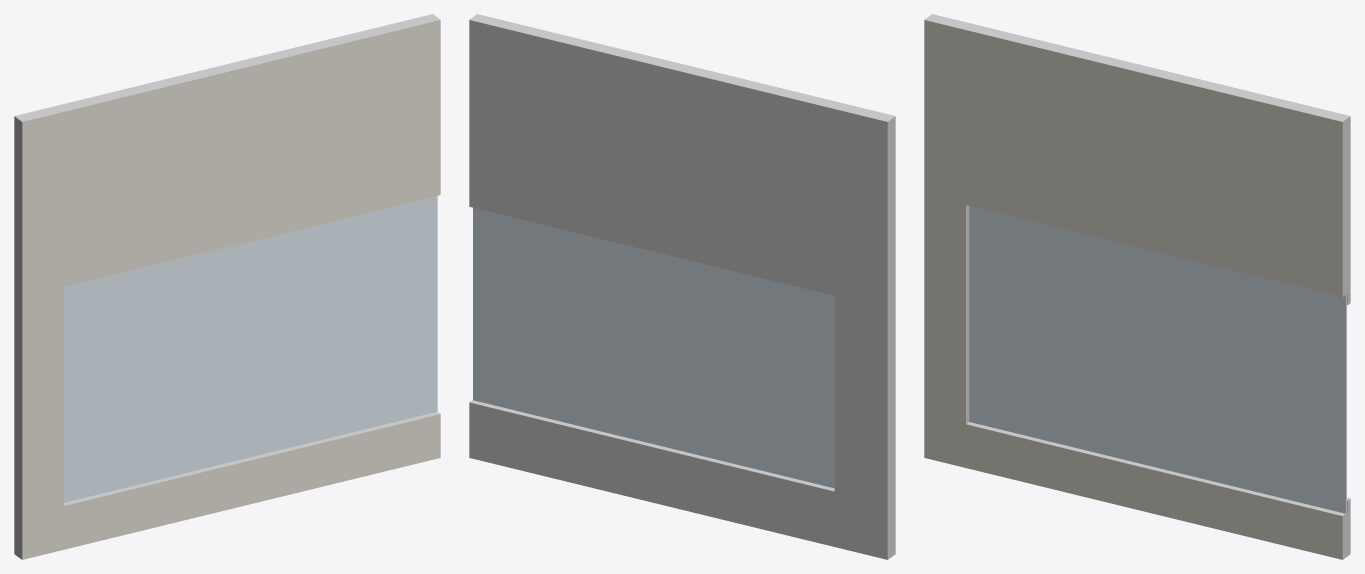
Rendered from ShopGlass_CapLeft.fbx.
3 renders of one model, left to right at view 1: azimuth 30°, elevation 25°; view 2: azimuth 150°, elevation 25°; view 3: azimuth 330°, elevation 25°, orthographic.
Parts seen in each view (by area): view 1: SM_ShopGlass_CapLeft; view 2: SM_ShopGlass_CapLeft; view 3: SM_ShopGlass_CapLeft.
Part boxes in pixels (x1,y1,x2,y2): SM_ShopGlass_CapLeft: [14, 14, 440, 559]; SM_ShopGlass_CapLeft: [469, 14, 895, 559]; SM_ShopGlass_CapLeft: [924, 14, 1350, 559].
Bounding box in the file's own units: 3 × 3 × 0.1.
